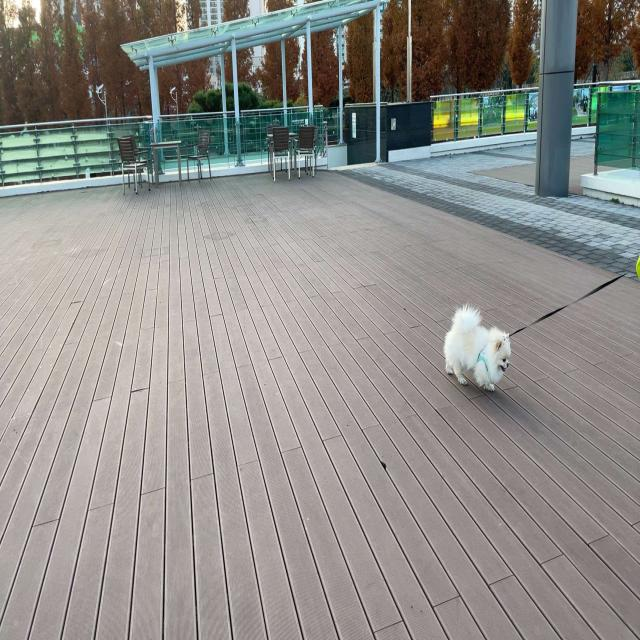Dog: (444, 302, 512, 394)
